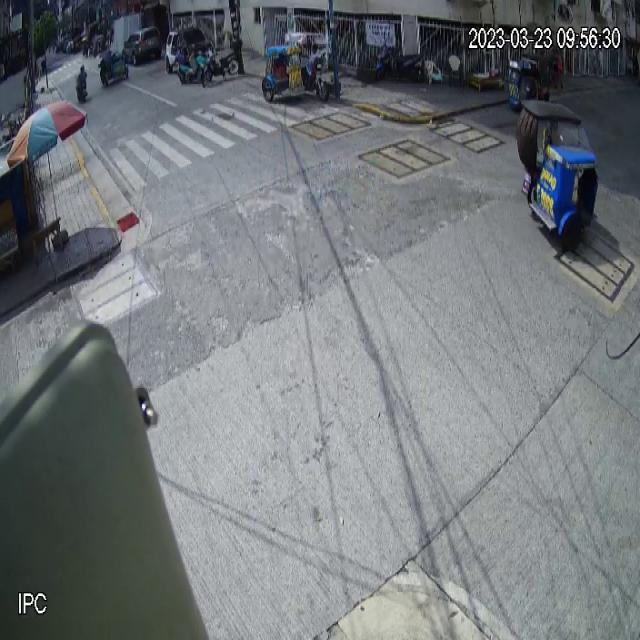Tricycle: (516, 99, 600, 251), (262, 32, 330, 104)
